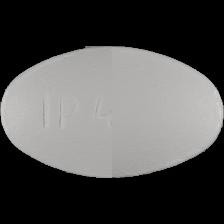42549-517: (0, 0, 224, 224)
